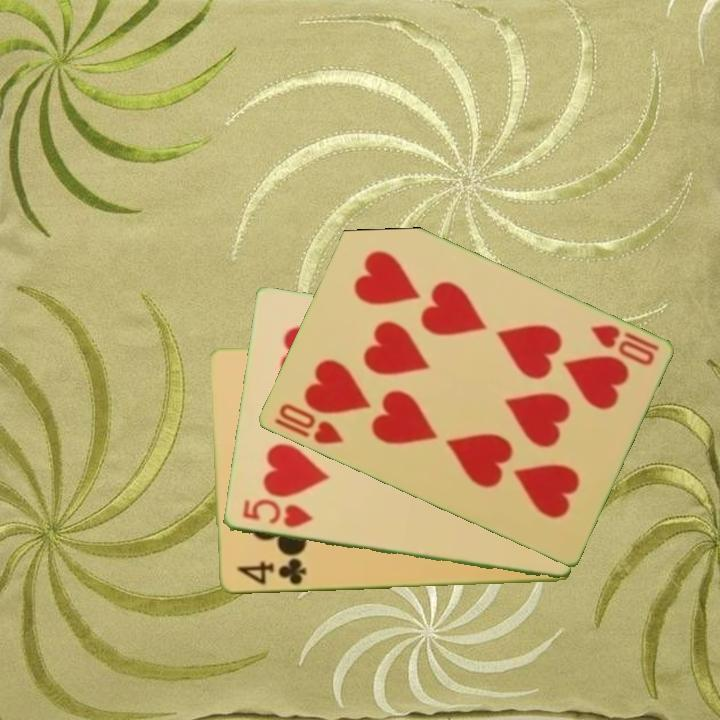10h: (269, 400, 346, 448), (586, 321, 662, 369)
4c: (233, 554, 309, 589)
5h: (238, 496, 315, 531)
